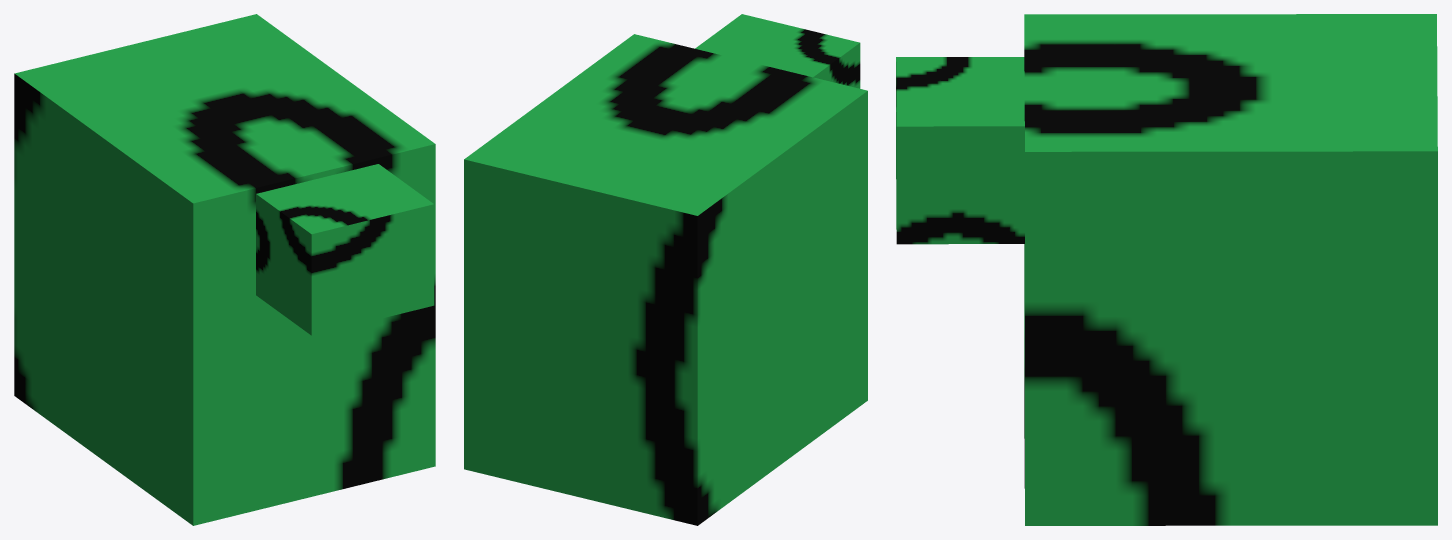
File: Player.obj
3 views of the same model, side by side, from view 1: azimuth 30°, elevation 25°; view 2: azimuth 150°, elevation 25°; view 3: azimuth 270°, elevation 25° (orthographic). The views are drawn at different scales.
Parts seen in each view (by area): view 1: Player1; view 2: Player1; view 3: Player1.
Part boxes in pixels (x1=…): Player1: x1=14, y1=14, x2=435, y2=525; Player1: x1=464, y1=14, x2=867, y2=525; Player1: x1=896, y1=14, x2=1437, y2=525.
Size of the model in its own units: 2.37 by 2.99 by 3.93.
